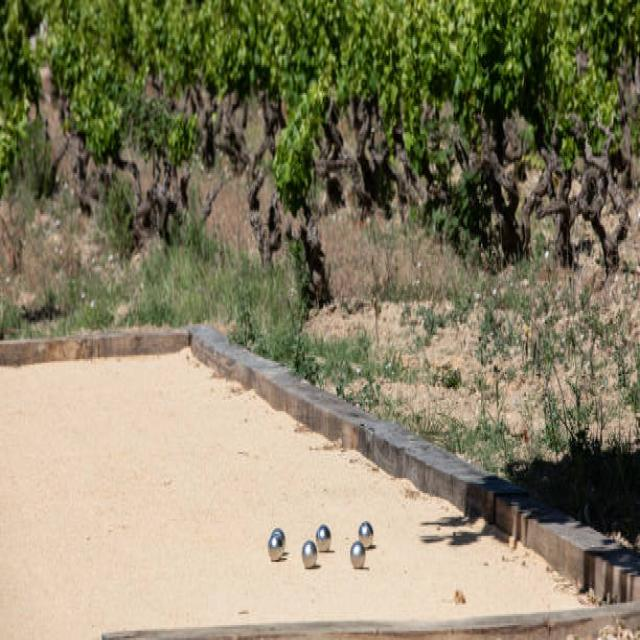petanque: (262, 536, 287, 568), (314, 521, 335, 555), (345, 540, 366, 574), (301, 536, 320, 572), (355, 519, 376, 548)
